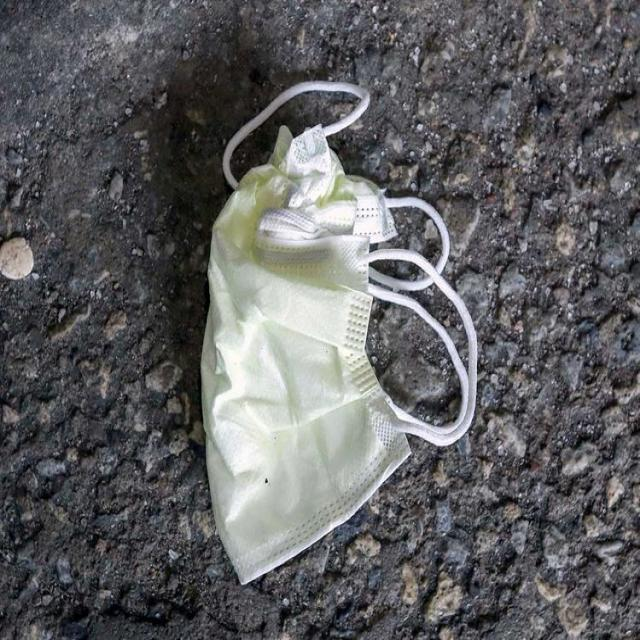non-organic waste: (203, 84, 469, 591)
